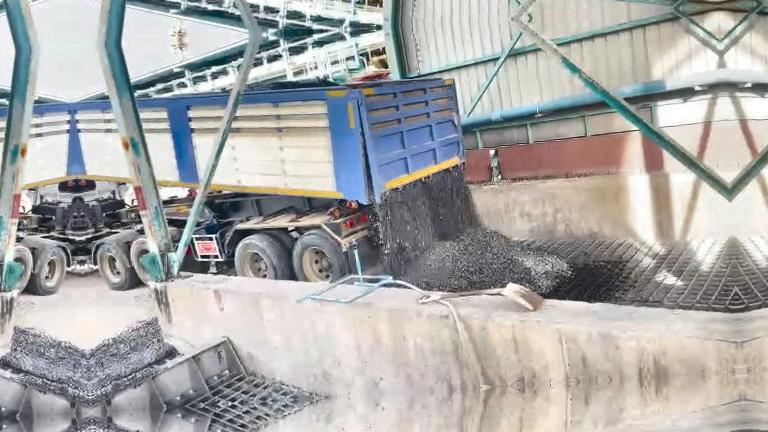gravel: (374, 168, 569, 293), (88, 318, 176, 403), (250, 78, 341, 90)
